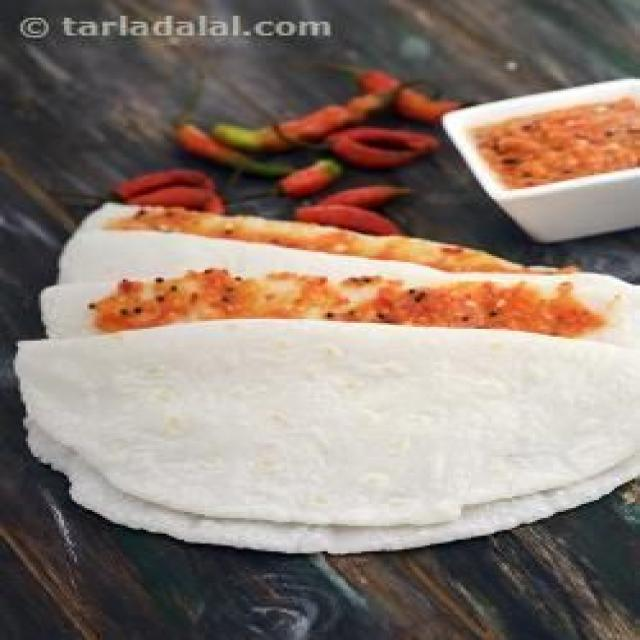DOSA: (23, 219, 635, 341)
